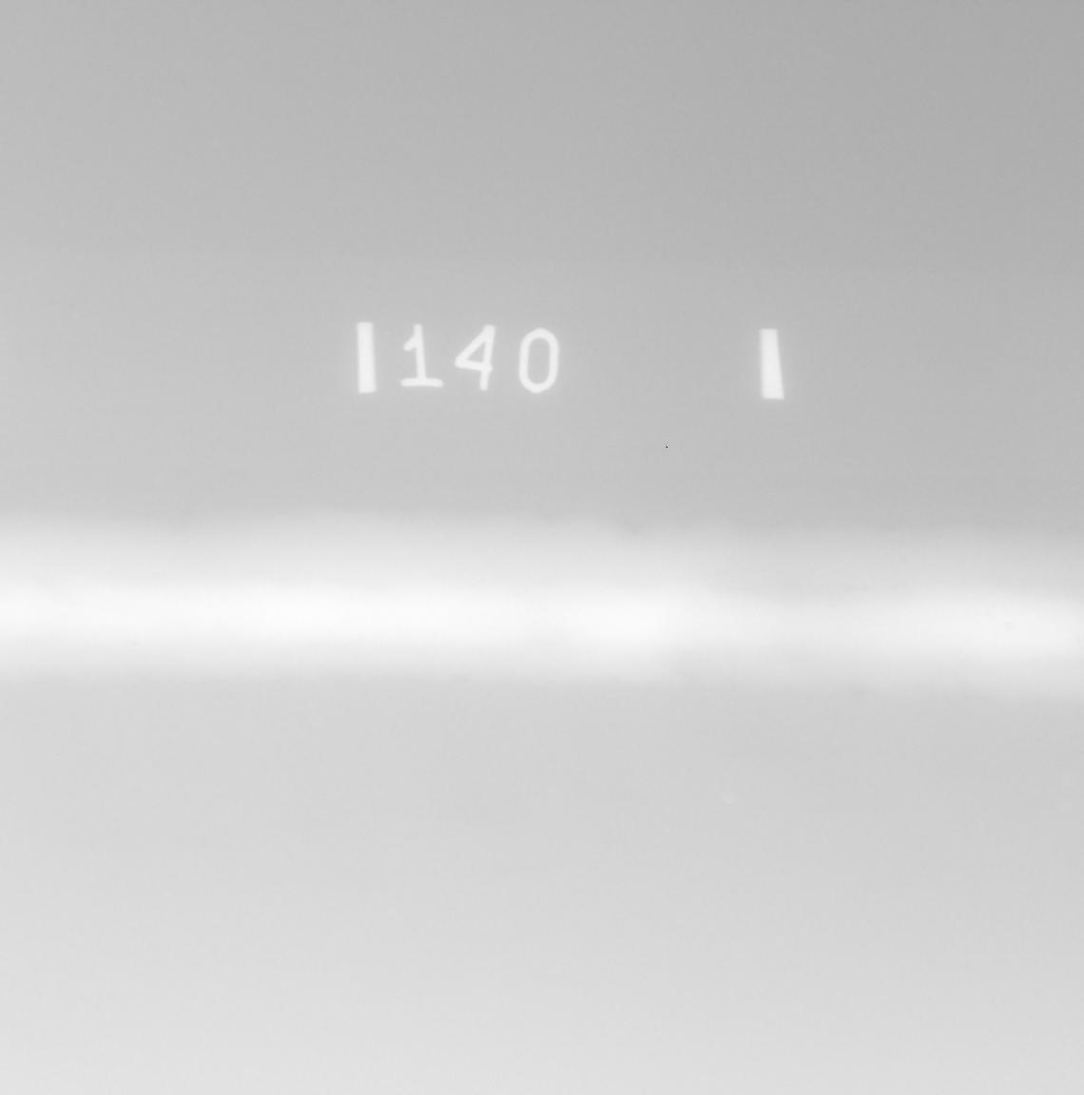Pore/Porosity: (1004, 625, 1011, 630), (862, 585, 867, 589), (1078, 639, 1082, 644)
